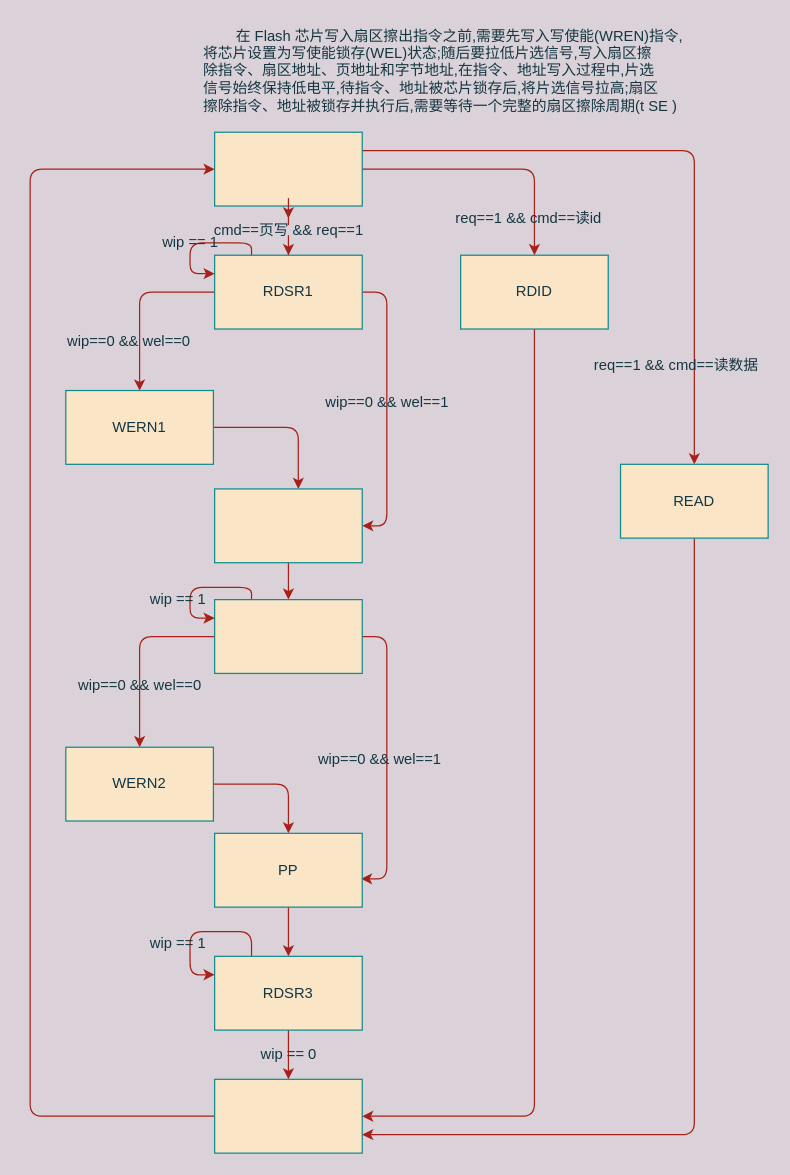
The diagram is 790 pixels wide and 1175 high, and some of its shapes have lost their labels. The shapes that lost their labels are listed below. From the top down, each one's centre as x and y in pixels, then its label:
At (287,168): "IDLE".
At (287,525): "SE".
At (287,635): "RDSR2".
At (287,1115): "DONE".
